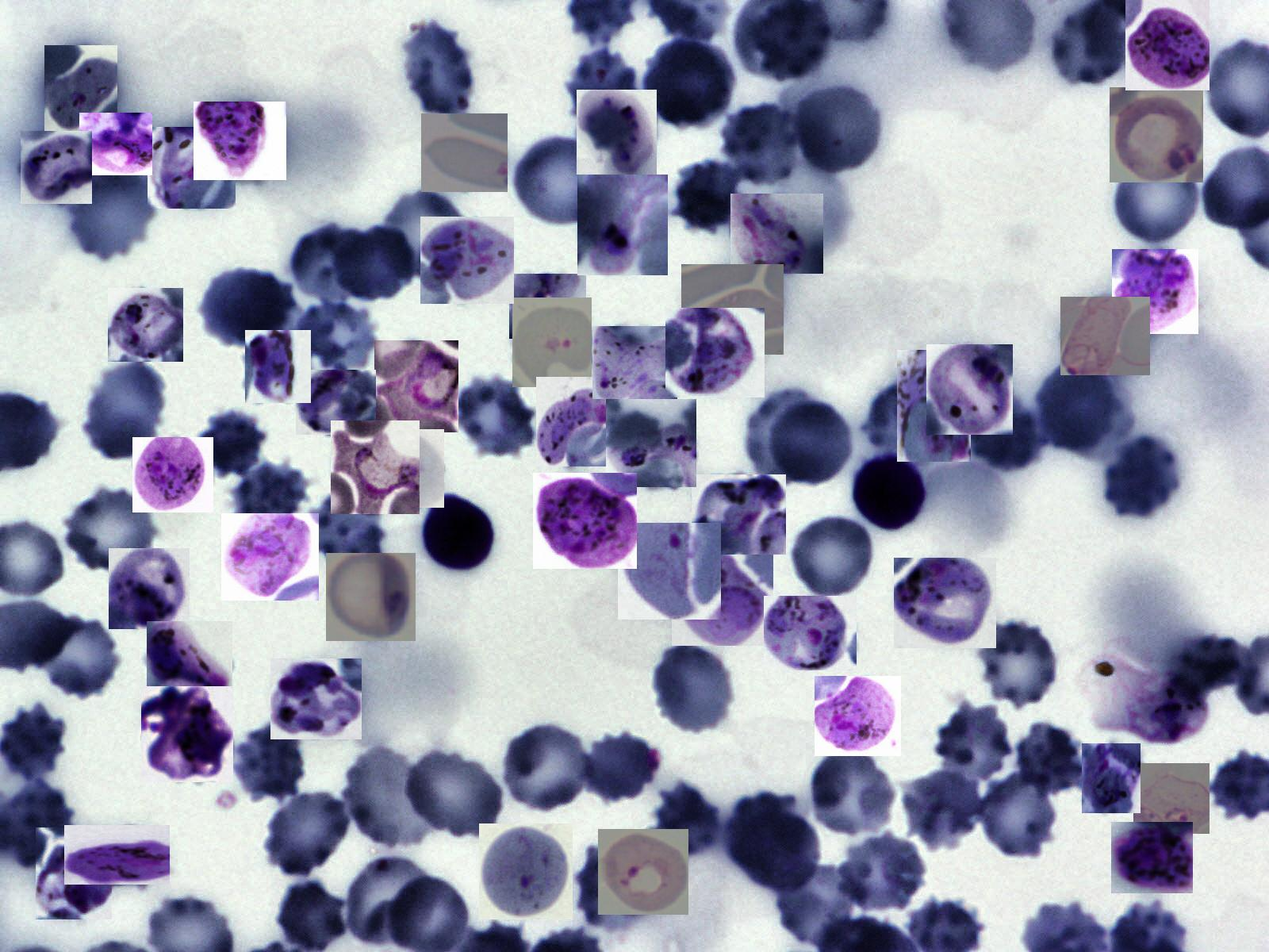Infected: (619, 523, 722, 620), (533, 473, 637, 569), (672, 553, 773, 646), (894, 558, 996, 648), (682, 265, 784, 355), (577, 175, 668, 275), (479, 823, 573, 919), (665, 308, 765, 397), (1110, 87, 1203, 182), (141, 686, 233, 782), (221, 513, 319, 601), (1101, 663, 1210, 742), (331, 420, 420, 514), (897, 350, 971, 462), (420, 217, 514, 304), (606, 399, 696, 487), (926, 344, 1013, 435), (327, 553, 416, 641), (599, 829, 689, 915), (374, 340, 458, 432), (692, 474, 787, 555), (347, 429, 444, 508), (1125, 0, 1210, 90), (270, 658, 362, 739), (730, 194, 823, 274), (147, 621, 232, 707), (1112, 249, 1198, 334), (849, 447, 932, 535), (148, 127, 236, 209), (194, 102, 286, 180), (512, 298, 592, 387), (1060, 297, 1150, 375), (36, 827, 112, 919), (764, 596, 857, 670), (815, 676, 901, 756), (421, 113, 508, 192), (577, 90, 657, 175), (418, 489, 497, 575), (109, 548, 190, 629), (536, 377, 609, 466), (64, 825, 170, 885), (592, 326, 677, 399), (45, 45, 117, 131), (132, 437, 213, 512), (1111, 822, 1193, 893), (108, 288, 183, 362), (1133, 764, 1210, 834), (296, 370, 376, 435), (21, 131, 92, 204), (509, 274, 586, 339), (245, 331, 311, 404), (79, 113, 152, 176), (1082, 743, 1141, 813)
Uninfected: (341, 743, 435, 850), (508, 132, 611, 228), (725, 793, 820, 896), (403, 746, 506, 840), (1109, 148, 1205, 247), (59, 486, 162, 578), (641, 36, 738, 132), (496, 722, 596, 815), (790, 81, 886, 177), (1043, 359, 1131, 463), (377, 186, 472, 281), (339, 853, 434, 947), (83, 363, 171, 464), (800, 749, 891, 842), (397, 21, 478, 122), (261, 790, 355, 877), (787, 513, 881, 599), (652, 641, 738, 735), (70, 170, 160, 259), (975, 619, 1062, 711), (976, 769, 1064, 859), (746, 389, 826, 488), (198, 267, 295, 348), (452, 375, 542, 461), (34, 617, 124, 702), (835, 834, 929, 915), (1099, 434, 1186, 521), (287, 224, 375, 309), (720, 103, 805, 190), (777, 860, 857, 950), (900, 769, 985, 850), (772, 397, 851, 484), (332, 223, 416, 304), (1050, 2, 1129, 88), (301, 492, 387, 570), (965, 390, 1043, 475), (577, 837, 646, 933), (230, 724, 310, 805), (567, 45, 639, 135), (650, 781, 726, 866), (228, 461, 311, 536), (292, 301, 376, 372), (670, 159, 747, 236), (934, 701, 1013, 775), (196, 409, 270, 483), (275, 877, 347, 952), (585, 735, 654, 804), (865, 378, 926, 456), (1019, 717, 1077, 792), (1174, 635, 1251, 691)
